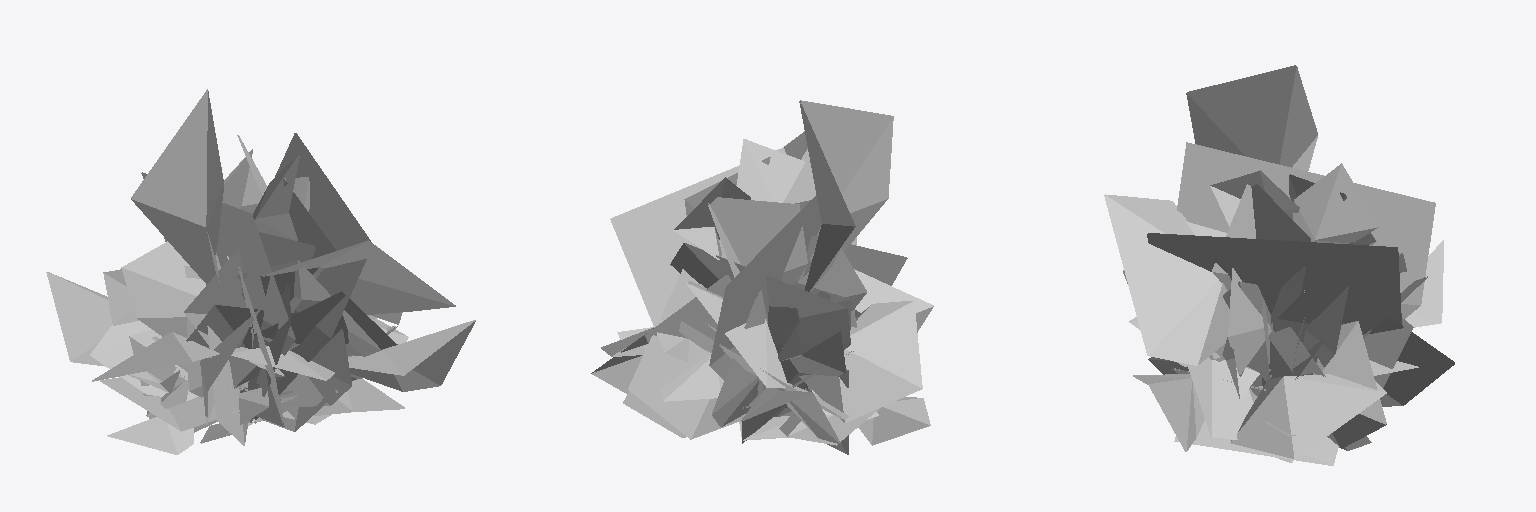
Rendered from bush01_lod2.obj.
3 renders of one model, left to right at view 1: azimuth 30°, elevation 25°; view 2: azimuth 150°, elevation 25°; view 3: azimuth 270°, elevation 25°, orthographic.
Visible parts, largest first — view 1: Bush01_LOD2_Mesh.006; view 2: Bush01_LOD2_Mesh.006; view 3: Bush01_LOD2_Mesh.006.
Boxes of the visible parts, x1,y1,x2,y2 form: Bush01_LOD2_Mesh.006: [46, 89, 475, 454]; Bush01_LOD2_Mesh.006: [591, 100, 933, 454]; Bush01_LOD2_Mesh.006: [1104, 65, 1454, 465].
Size of the model in its own units: 5.55 by 5.69 by 5.29.